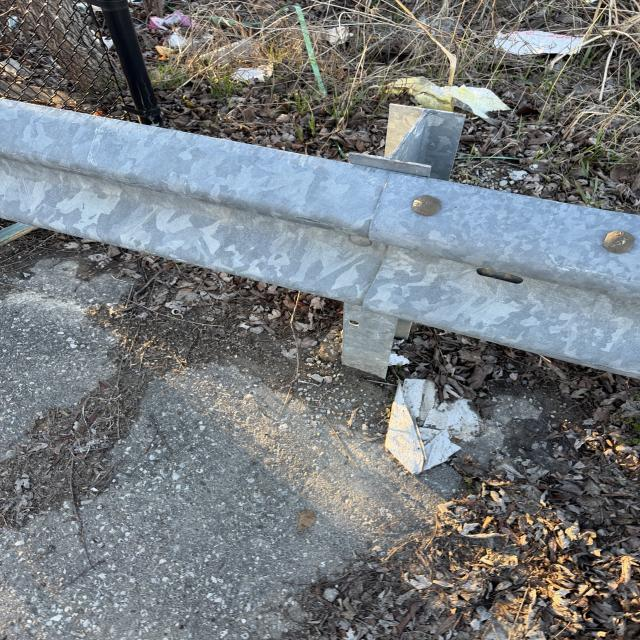Guard rail: (14, 112, 614, 343)
